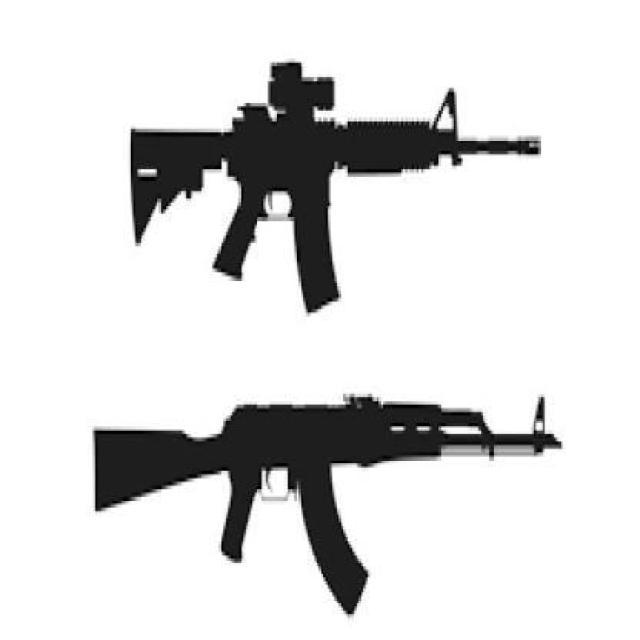weapon: (117, 38, 554, 324), (90, 392, 572, 594)
